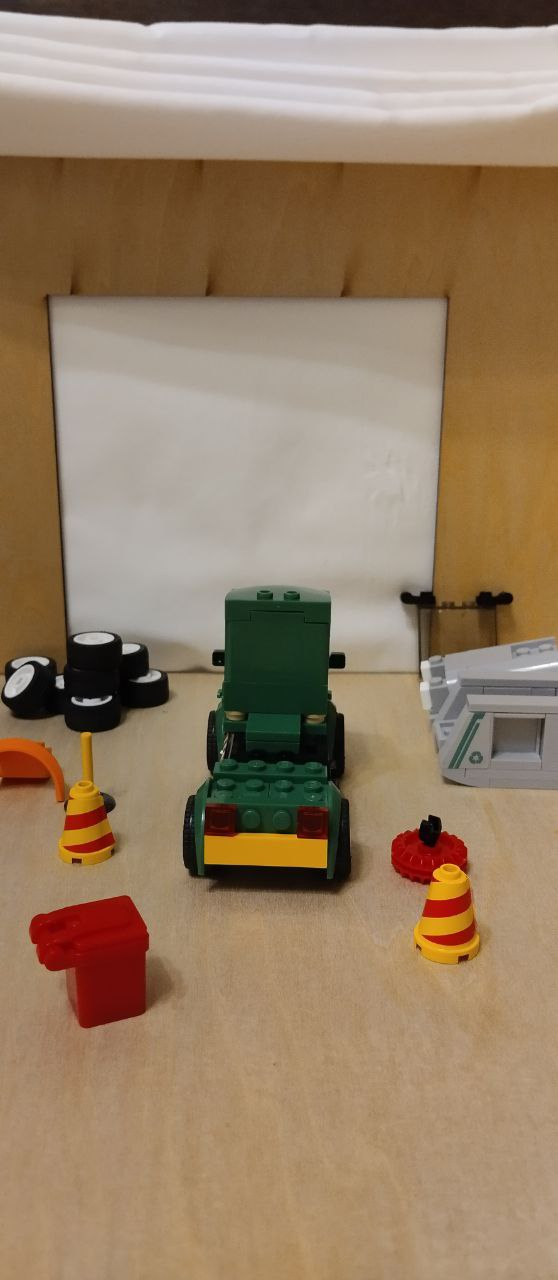Cone: (410, 860, 484, 970), (55, 780, 122, 868)
Object Red: (23, 886, 156, 1038)
Truck: (173, 579, 371, 894)
